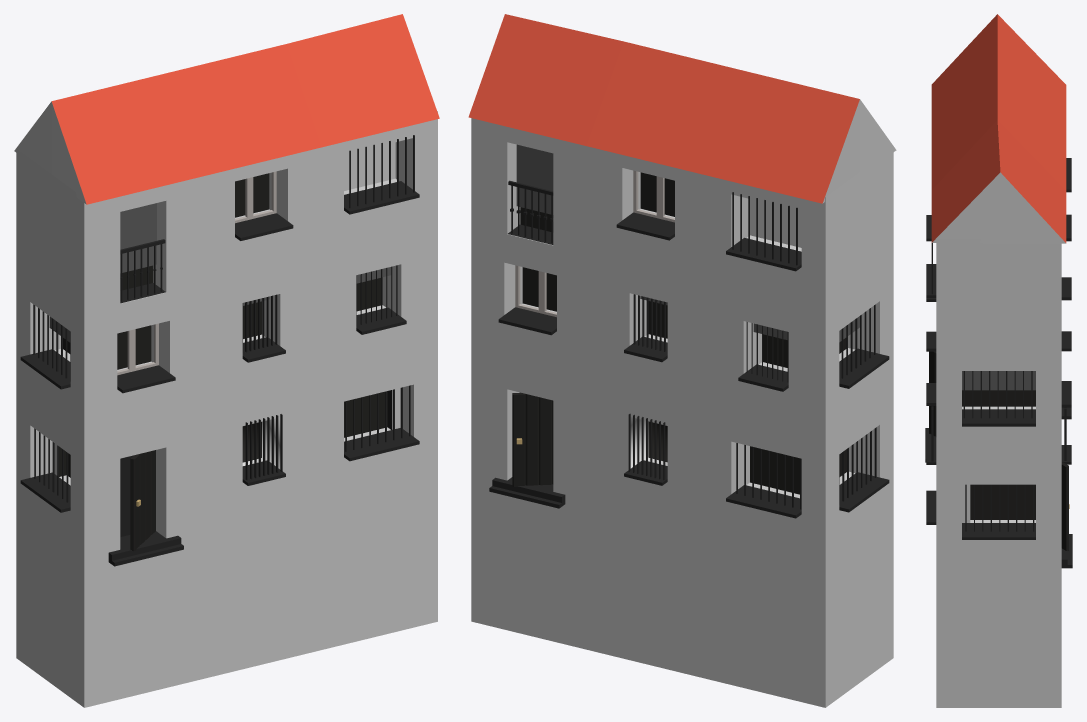
File: casa procedural_relleno_Con sotano_2.fbx
3 renders of one model, left to right at view 1: azimuth 30°, elevation 25°; view 2: azimuth 150°, elevation 25°; view 3: azimuth 270°, elevation 25°, orthographic. The views are drawn at different scales.
Visible parts, largest first — view 1: Procedural_Building_straight.002; view 2: Procedural_Building_straight.002; view 3: Procedural_Building_straight.002.
Part boxes in pixels (<box>): Procedural_Building_straight.002: <box>14,14,439,707</box>; Procedural_Building_straight.002: <box>468,14,896,707</box>; Procedural_Building_straight.002: <box>925,14,1072,707</box>.
Size of the model in its own units: 316 by 472 by 118.
